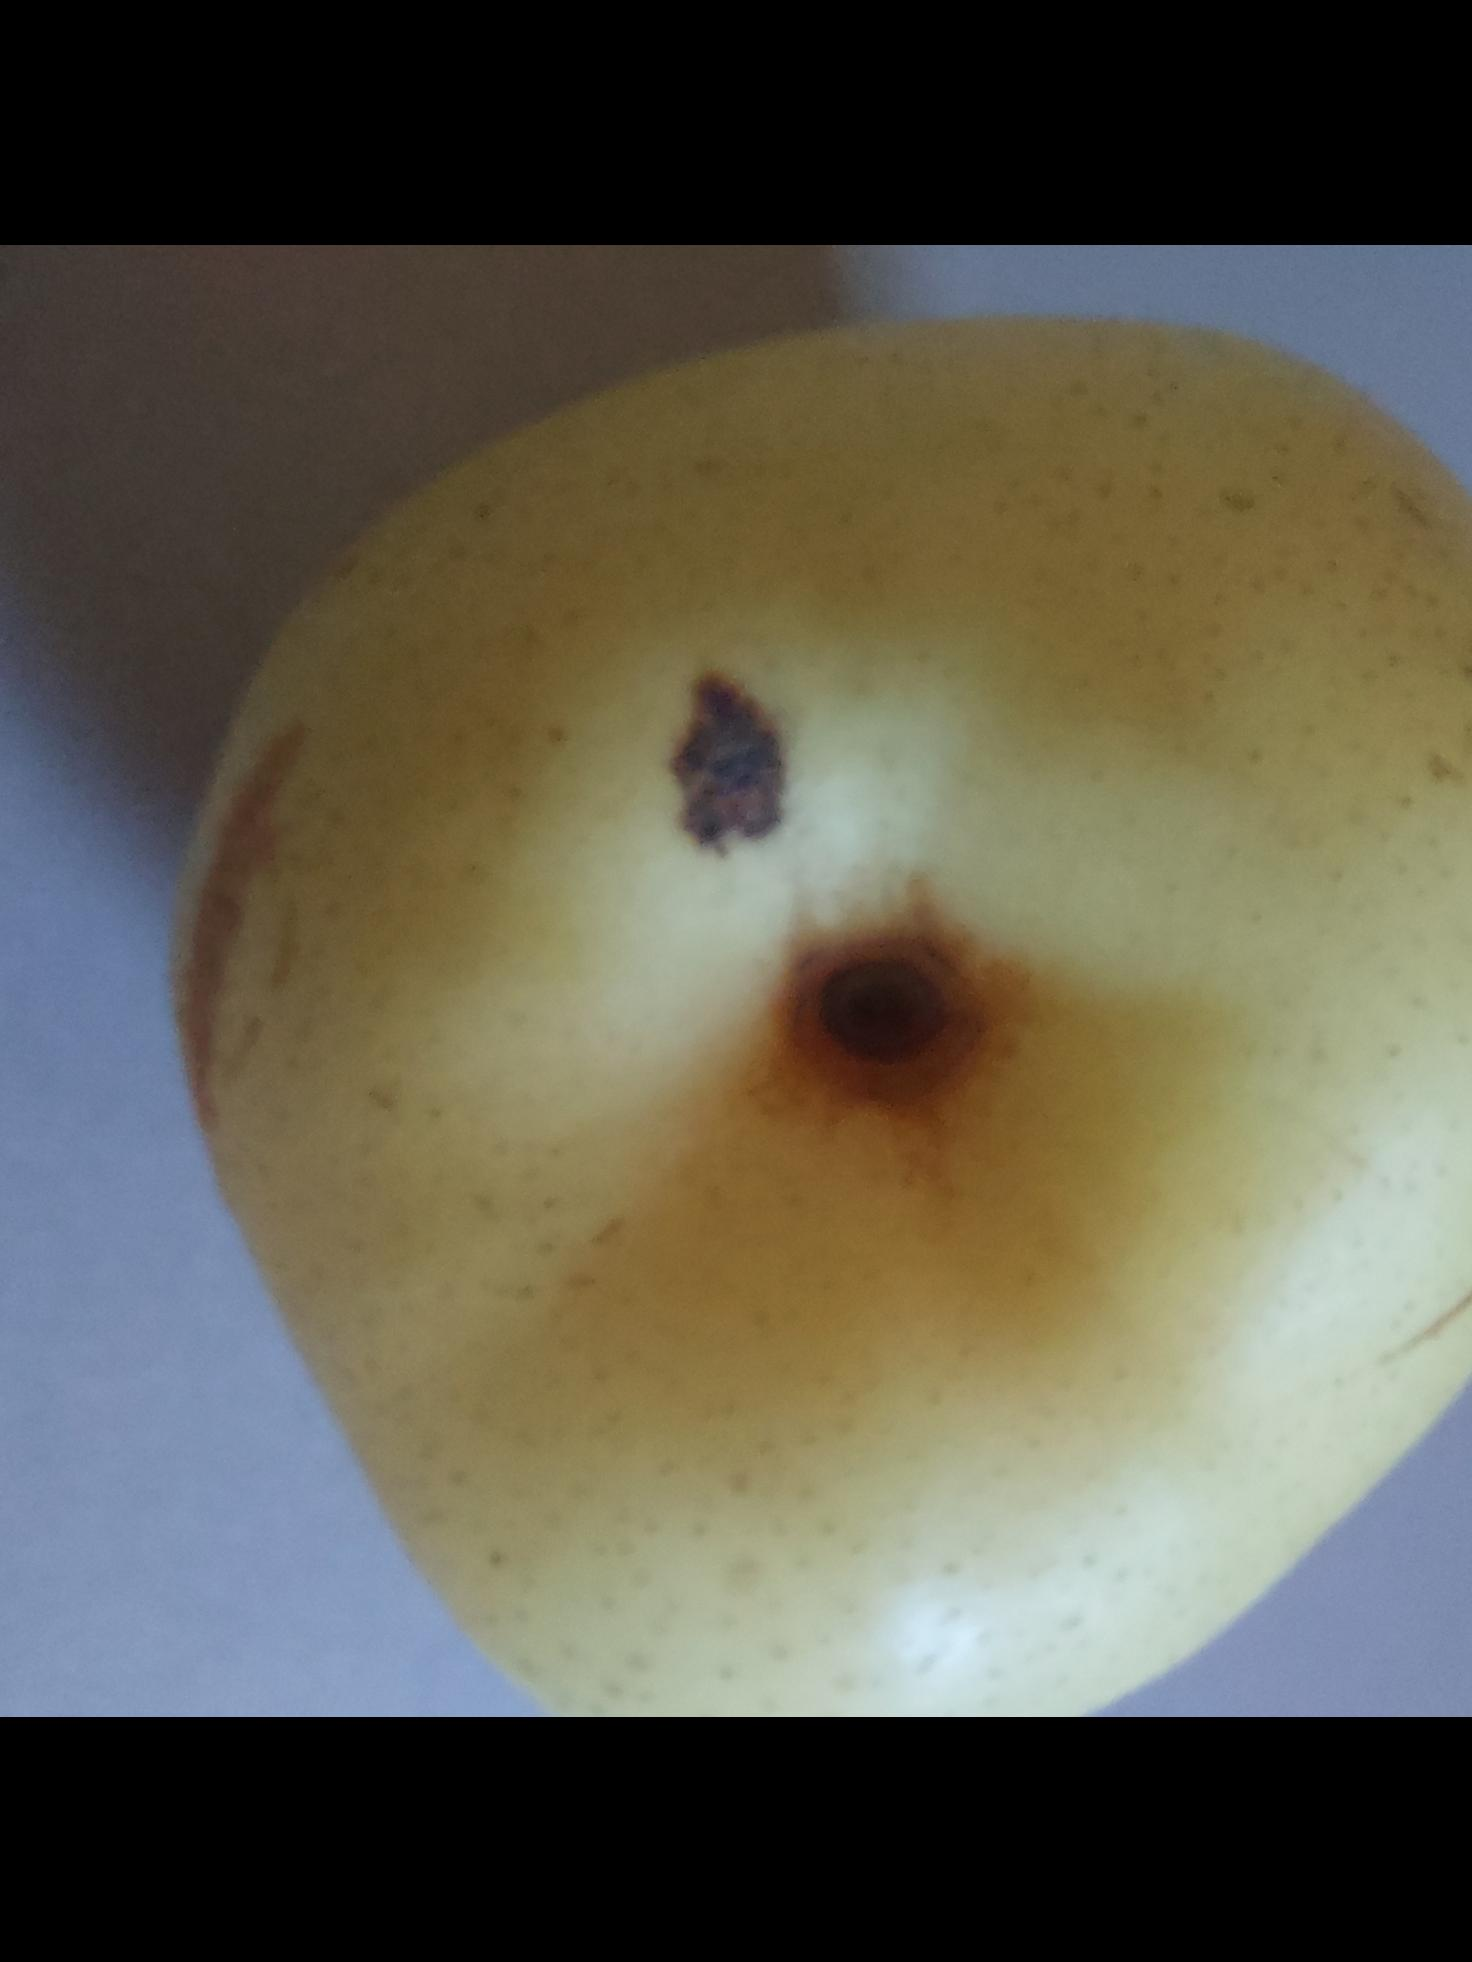Good Pear: (91, 244, 1472, 1718)
